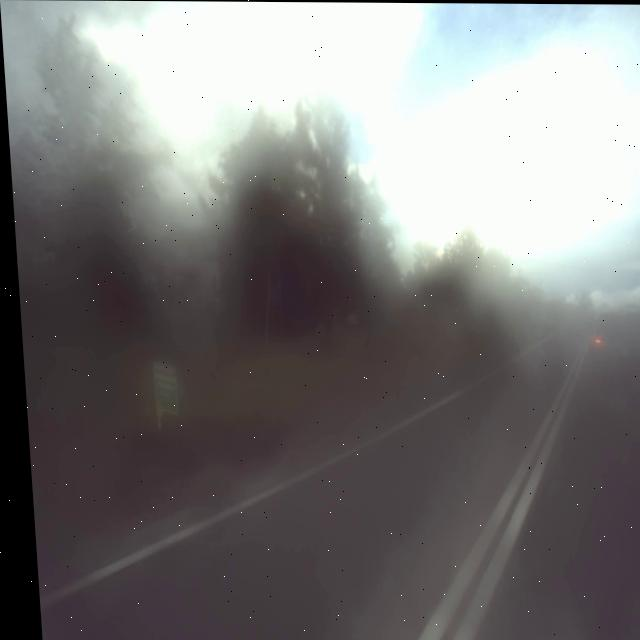car: (582, 302, 640, 404)
